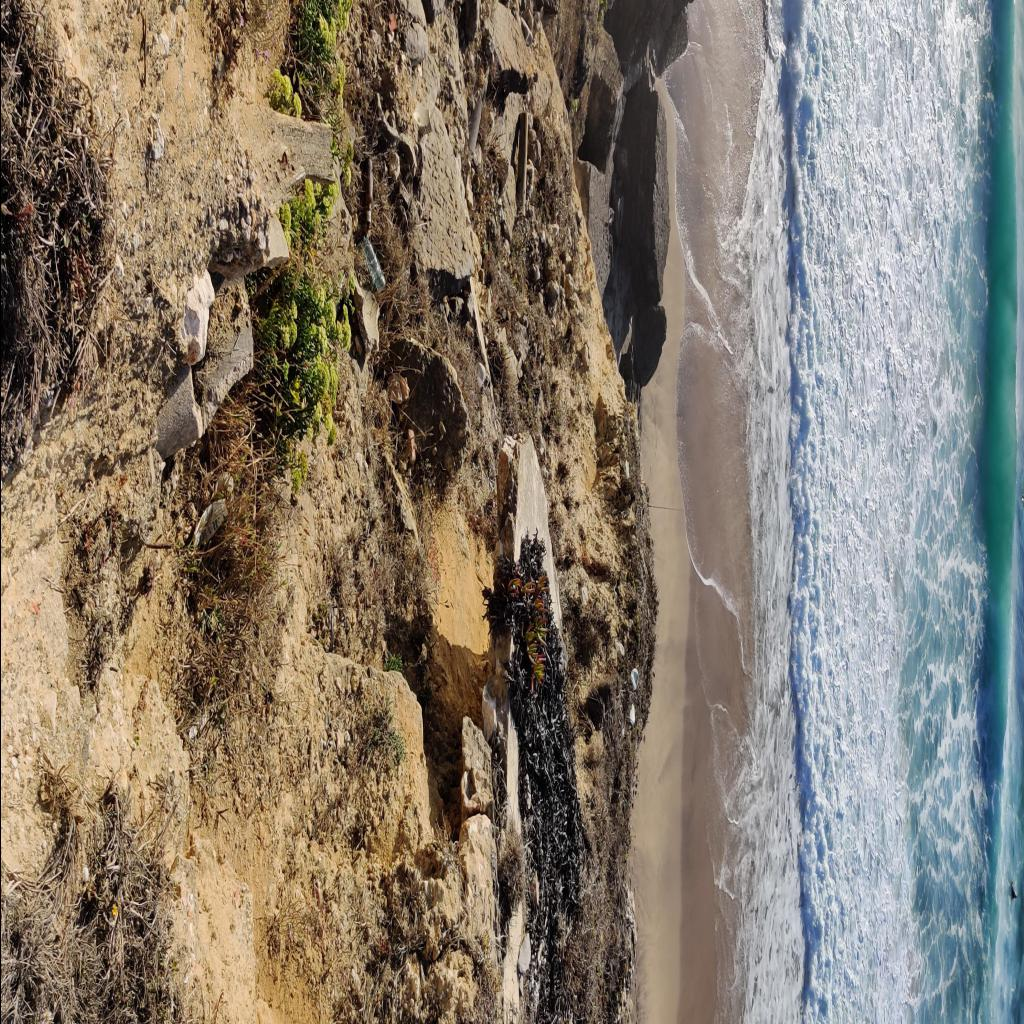Clear plastic bottle: (360, 236, 384, 290)
Drink can: (628, 668, 638, 692), (628, 703, 634, 730)
Glass bottle: (362, 158, 372, 230)
Unlabeled litter: (192, 498, 226, 550)
